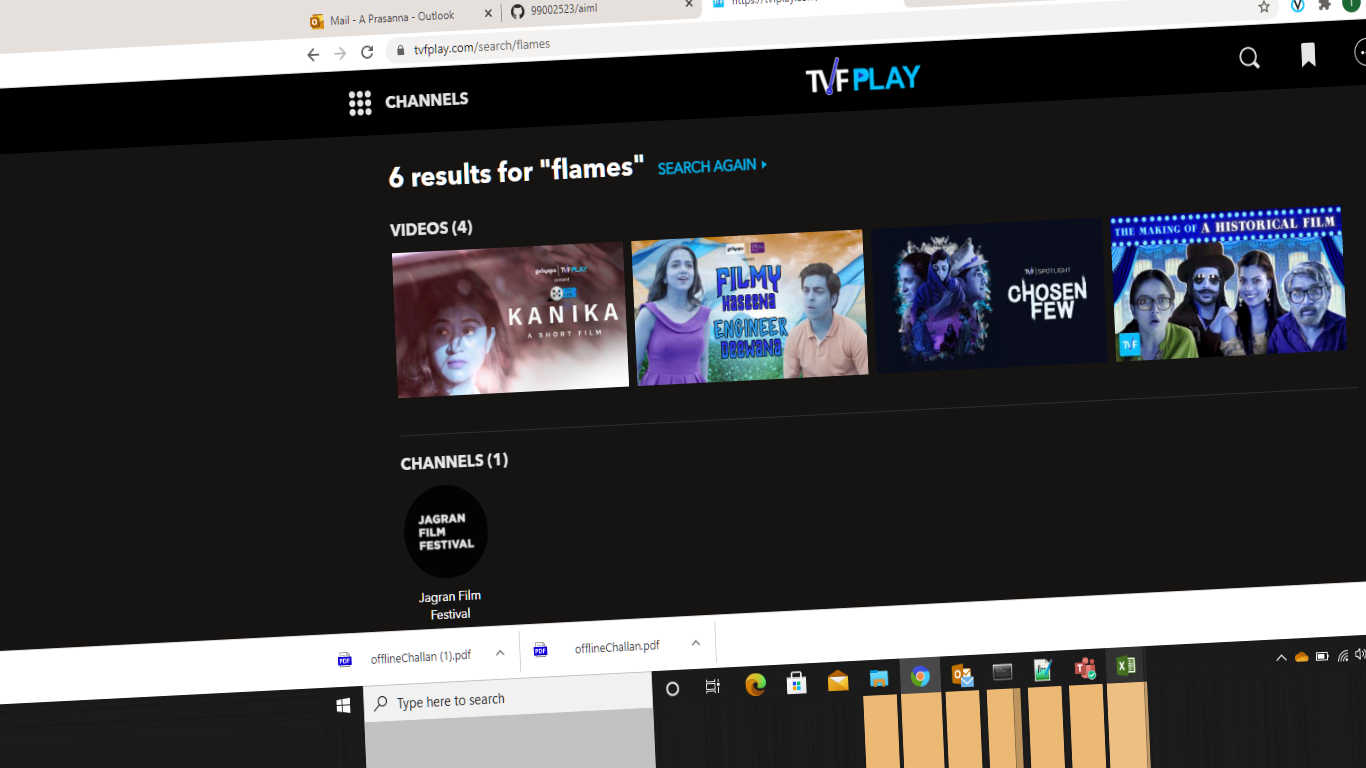resultsfound: (375, 145, 793, 204)
searchicon: (1226, 44, 1279, 78)
